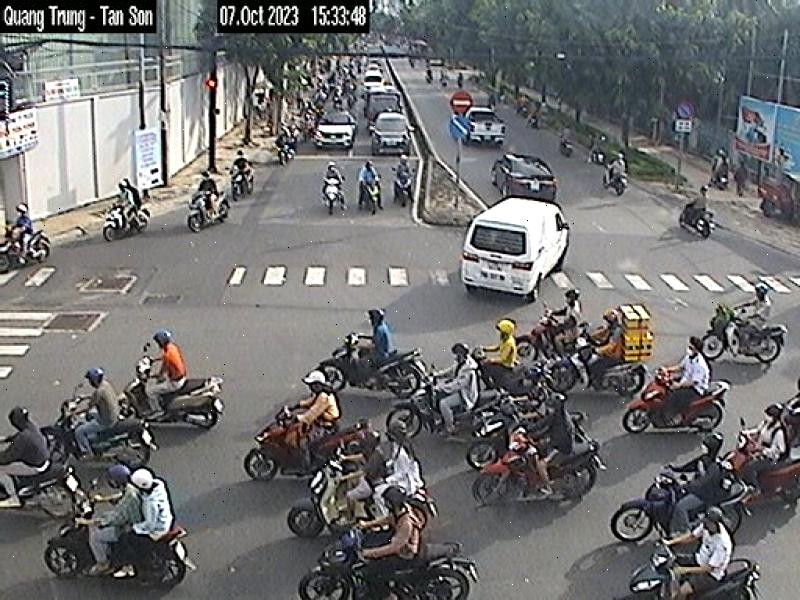car: (459, 196, 572, 306), (115, 463, 186, 580), (366, 484, 422, 600), (668, 503, 733, 600), (673, 432, 729, 542), (83, 463, 135, 576), (1, 401, 50, 512), (432, 340, 482, 442), (295, 369, 343, 471), (74, 364, 121, 468), (336, 428, 386, 524), (142, 328, 192, 423), (526, 392, 572, 494), (377, 417, 421, 523), (663, 336, 712, 431), (472, 317, 528, 395), (491, 151, 565, 205), (586, 307, 627, 402), (547, 286, 591, 374), (736, 280, 775, 364), (748, 405, 781, 504), (358, 309, 394, 391), (370, 110, 416, 156), (463, 106, 512, 146), (191, 169, 224, 226), (315, 110, 358, 152)
motorcycle: (43, 498, 198, 591), (297, 523, 481, 600), (244, 404, 390, 483), (469, 426, 609, 508), (608, 468, 759, 544), (285, 461, 440, 534), (27, 398, 162, 472), (616, 533, 764, 600), (382, 373, 518, 441), (114, 356, 228, 432), (308, 327, 429, 398), (617, 364, 730, 436), (693, 296, 791, 368), (716, 432, 800, 509), (0, 456, 85, 518), (99, 203, 152, 243), (183, 193, 235, 229)
